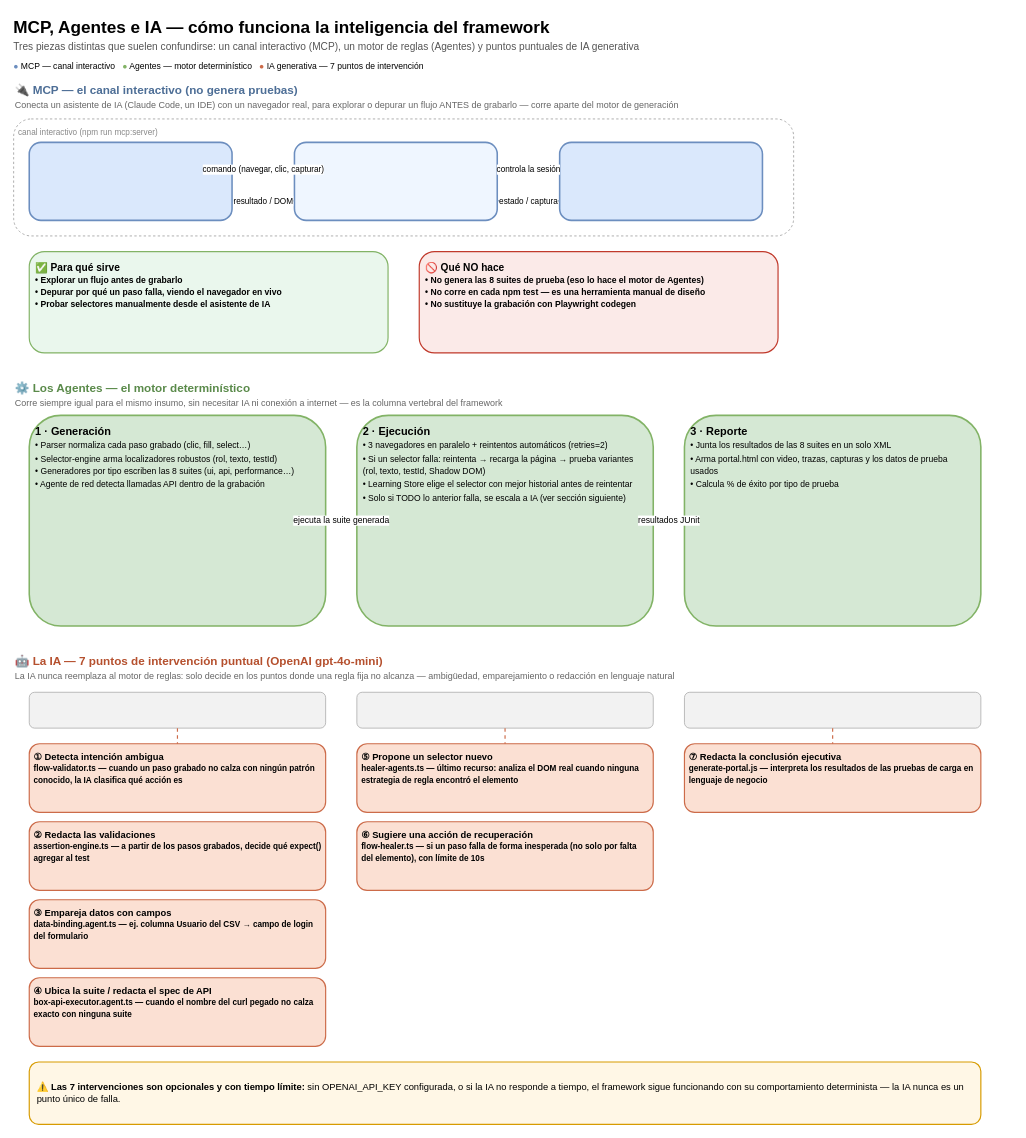
The diagram is 1026 pixels wide and 1138 high, and some of its shapes have lost their labels. The shapes that lost their labels are listed below. From the top down, each one's centre as x and y in pixels, then its label:
At point (130, 181): "Asistente de IA Claude Code · IDE con MCP explora o depura un flujo".
At point (395, 181): "Servidor MCP ConfigurationAgents/.../mcp/server.ts envuelve @playwright/mcp".
At point (660, 181): "Navegador real sesión Playwright headed / headless".
At point (177, 709): "1 · Generación".
At point (504, 709): "2 · Ejecución".
At point (832, 709): "3 · Reporte".
